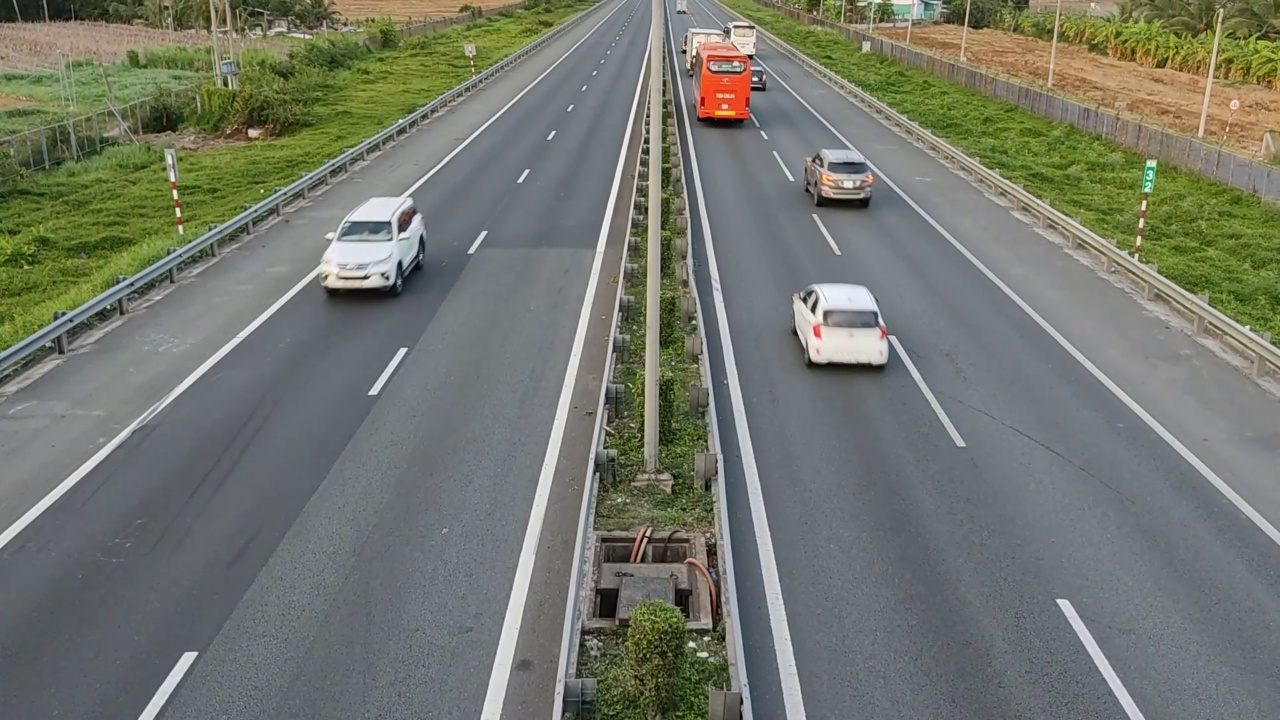car: (318, 195, 427, 296), (791, 282, 889, 368), (803, 147, 875, 207)
